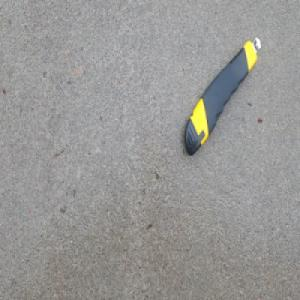Cutter: (181, 35, 260, 156)
